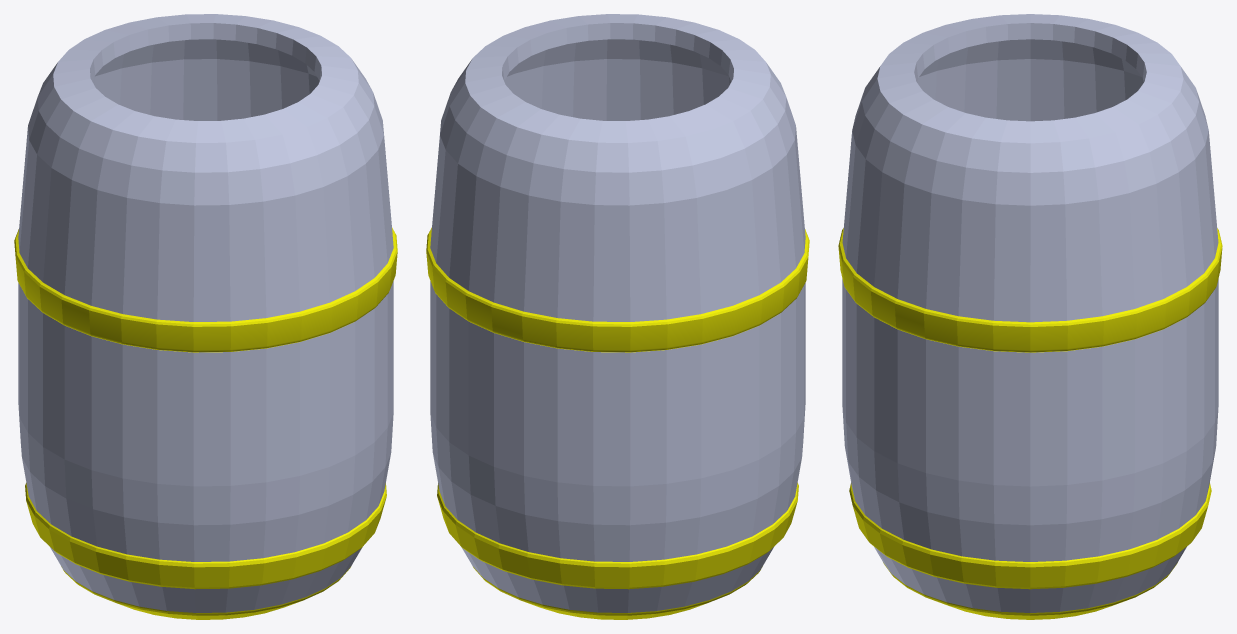
The model's file is BottleForDemon.fbx.
The picture shows the model from 3 angles, left to right: view 1: azimuth 30°, elevation 25°; view 2: azimuth 150°, elevation 25°; view 3: azimuth 270°, elevation 25°; orthographic projection.
Parts seen in each view (by area): view 1: Bottle.002, Metall circle upper.001, Metall circle down, Metall bottom; view 2: Bottle.002, Metall circle upper.001, Metall circle down, Metall bottom; view 3: Bottle.002, Metall circle upper.001, Metall circle down, Metall bottom.
Boxes of the visible parts, x1,y1,x2,y2 form: Bottle.002: [18, 14, 393, 612]; Metall circle upper.001: [14, 227, 397, 352]; Metall circle down: [25, 483, 386, 589]; Metall bottom: [61, 566, 350, 619]; Bottle.002: [430, 14, 805, 612]; Metall circle upper.001: [426, 227, 809, 352]; Metall circle down: [437, 483, 798, 589]; Metall bottom: [473, 566, 762, 619]; Bottle.002: [842, 14, 1218, 612]; Metall circle upper.001: [838, 228, 1222, 352]; Metall circle down: [849, 483, 1211, 589]; Metall bottom: [883, 562, 1177, 619].
Size of the model in its own units: 0.7761 by 1.14 by 0.7761.
